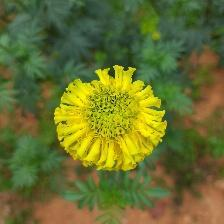marigold: (56, 66, 170, 173)
